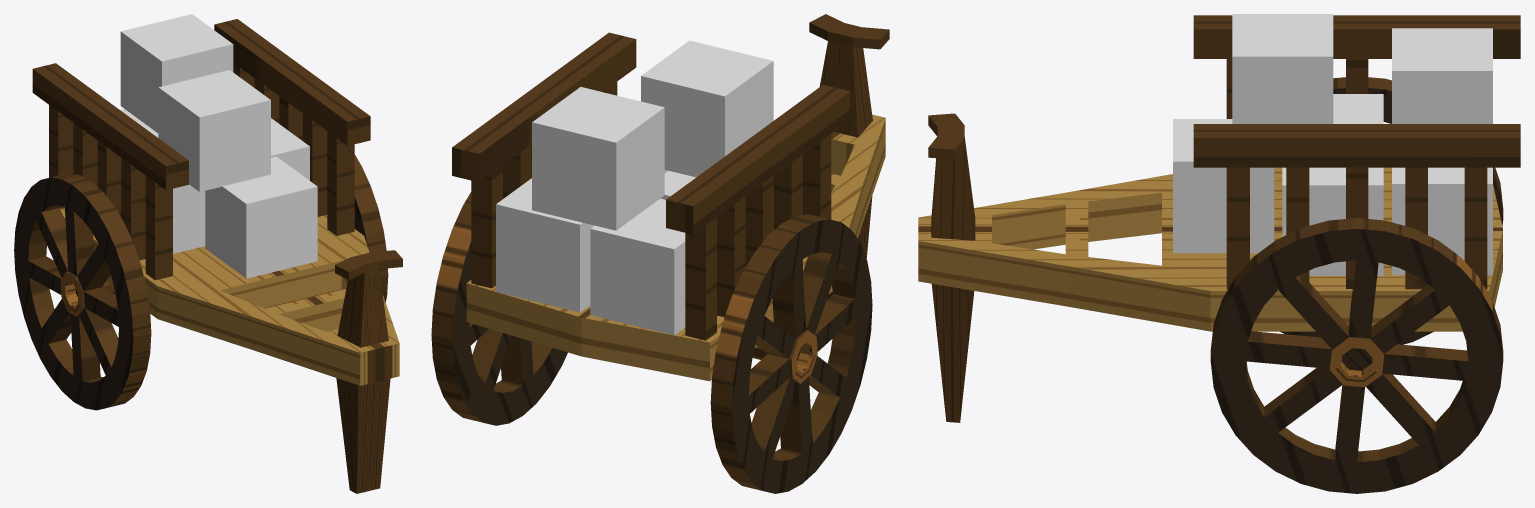
The model's file is Car.fbx.
The picture shows the model from 3 angles, left to right: view 1: azimuth 30°, elevation 25°; view 2: azimuth 150°, elevation 25°; view 3: azimuth 270°, elevation 25°; orthographic projection. The views are drawn at different scales.
Parts seen in each view (by area): view 1: Chassis, Chassis-Top, Wheel, Box01, Box07, Box02, Box05, Box06; view 2: Wheel, Chassis-Top, Chassis, Box02, Box01, Box03, Box04, Box05; view 3: Wheel, Chassis, Chassis-Top, Box01, Box02, Box07, Box04, Box06, Box05.
Part boxes in pixels (x1,y1,x2,y2): Chassis: (60,208,402,493); Chassis-Top: (32,19,370,280); Wheel: (14,154,388,410); Box01: (158,70,270,191); Box07: (205,156,317,278); Box02: (120,14,233,132); Box05: (173,184,205,253); Box06: (271,118,309,180); Wheel: (431,192,872,493); Chassis-Top: (452,32,850,340); Chassis: (466,14,889,381); Box02: (532,87,664,230); Box01: (641,40,773,177); Box03: (590,198,685,335); Box04: (496,178,594,312); Box05: (660,170,695,199); Wheel: (1210,77,1503,493); Chassis: (918,113,1502,422); Chassis-Top: (1193,15,1520,289); Box01: (1232,14,1333,123); Box02: (1392,28,1492,123); Box07: (1173,119,1274,253); Box04: (1392,167,1492,275); Box06: (1282,167,1383,275); Box05: (1333,94,1383,123).
Size of the model in its own units: 251 by 282 by 412.
Materials: 3 (3 with a texture image).
